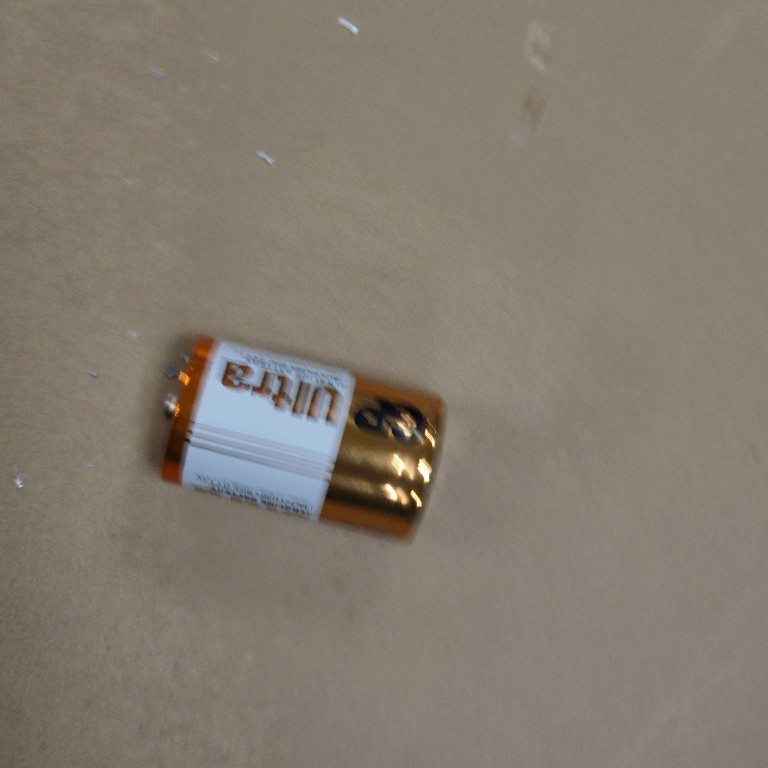charge: (152, 326, 455, 550)
